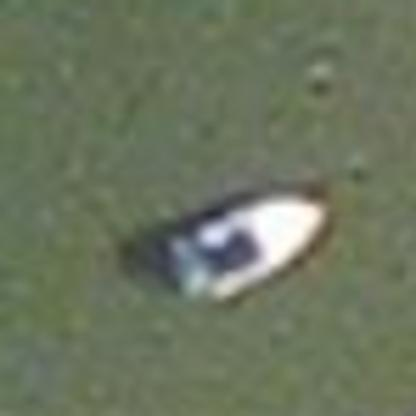ship: (126, 179, 345, 308)
